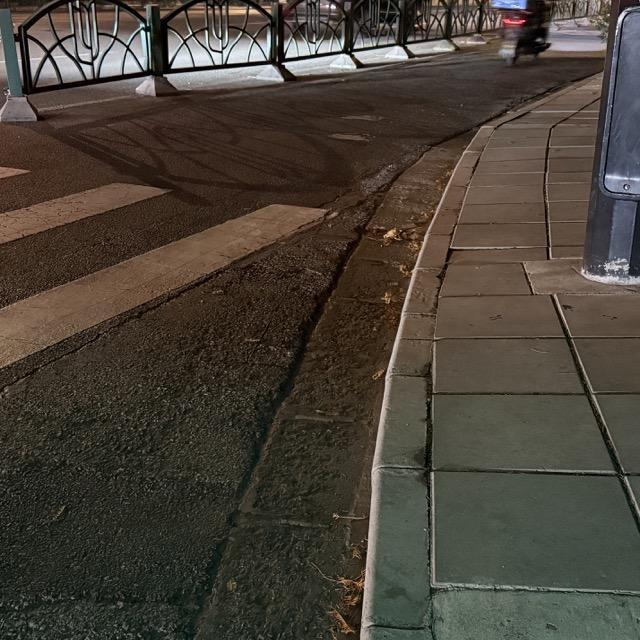curb: (361, 121, 496, 639)
